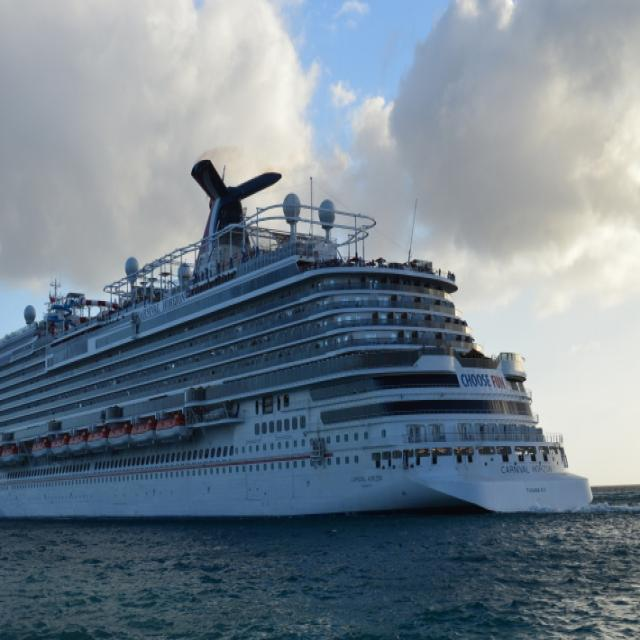cruises: (1, 150, 598, 534)
